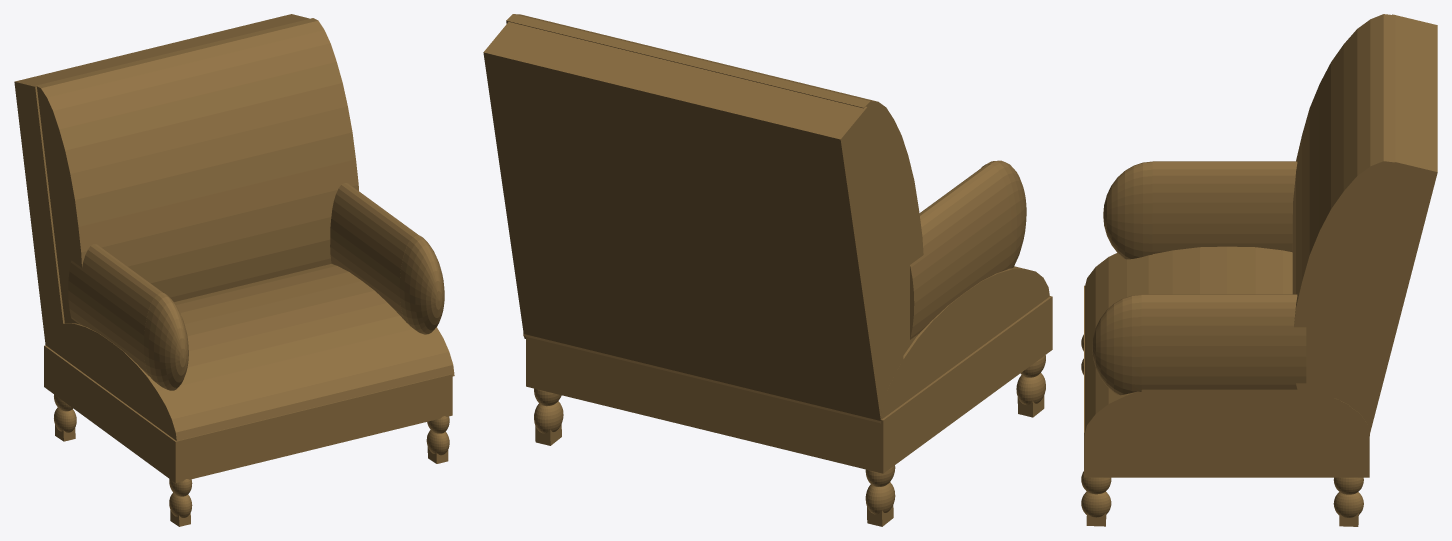
The model's file is chair.glb.
3 views of the same model, side by side, from view 1: azimuth 30°, elevation 25°; view 2: azimuth 150°, elevation 25°; view 3: azimuth 270°, elevation 25° (orthographic). The views are drawn at different scales.
Parts seen in each view (by area): view 1: Mesh_Mesh_head_geo.001_lambert2SG.001; view 2: Mesh_Mesh_head_geo.001_lambert2SG.001; view 3: Mesh_Mesh_head_geo.001_lambert2SG.001.
Part boxes in pixels (box(x1,y1,x2,y2)): Mesh_Mesh_head_geo.001_lambert2SG.001: box(14, 14, 454, 526); Mesh_Mesh_head_geo.001_lambert2SG.001: box(483, 14, 1052, 526); Mesh_Mesh_head_geo.001_lambert2SG.001: box(1081, 14, 1437, 526).
Bounding box in the file's own units: 0.0222 × 0.0254 × 0.0222.
